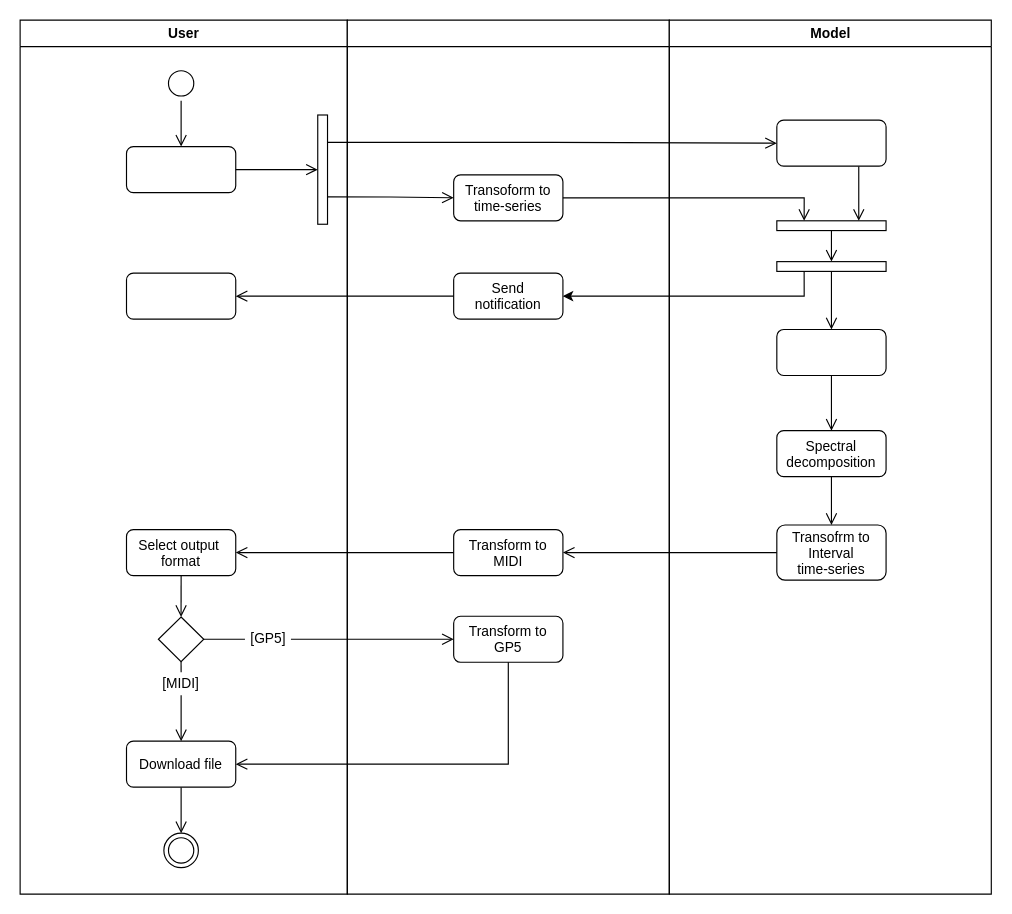
Some shapes in this 1012 by 914 pixel diagram are drawn without their labels. Here are the shapes that lost their labels. From the top down, the box of each, then its label:
(776, 119, 886, 166): Read model from storage
(125, 145, 236, 193): Upload file
(125, 272, 236, 319): Receive notification
(776, 328, 886, 375): Reduce noise
(346, 19, 669, 894): I/O Controller
